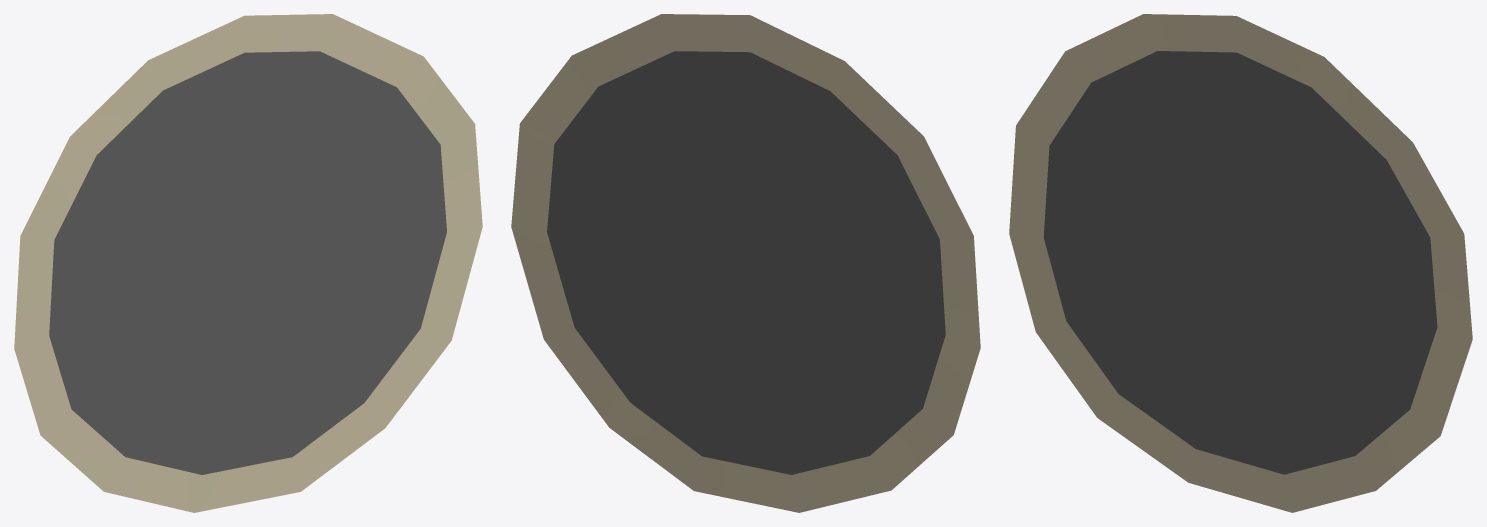
File: ui_circleBackgroundSmallOutline.glb
3 views of the same model, side by side, from view 1: azimuth 30°, elevation 25°; view 2: azimuth 150°, elevation 25°; view 3: azimuth 330°, elevation 25° (orthographic).
Visible parts, largest first — view 1: Cylinder; view 2: Cylinder; view 3: Cylinder.
Part boxes in pixels (x1,y1,x2,y2): Cylinder: (14, 14, 482, 512); Cylinder: (511, 14, 980, 512); Cylinder: (1009, 14, 1472, 512).
Bounding box in the file's own units: 2.08 × 2.08 × 0.00941.
